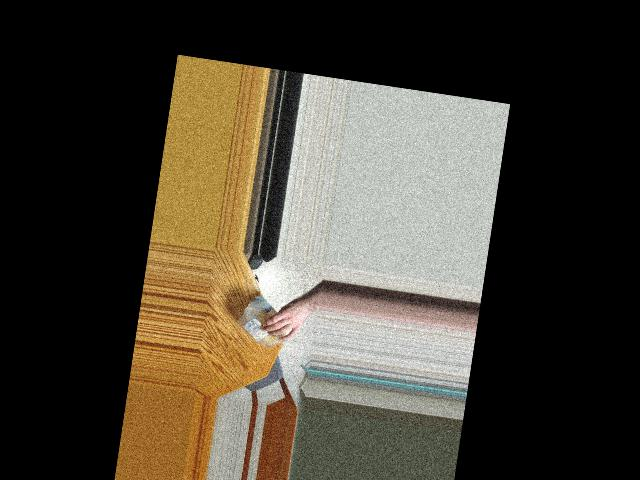cheese: (232, 299, 297, 353)
